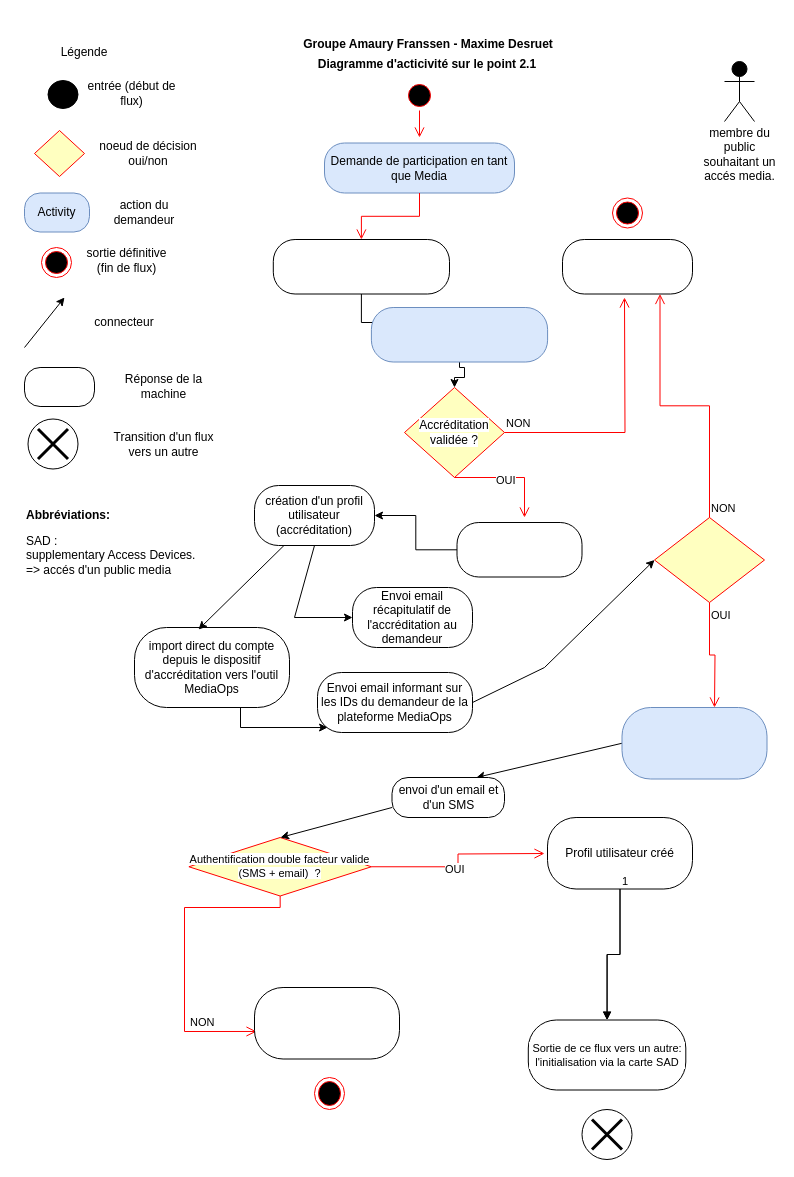
Image size: 794x1177. Some labels were removed from this diagram. The shapes that lost their labels are listed below. From the top down, each one's centre as x and y in pixels, then its label:
[361,266]: Envoi d'un email incitant à s'inscrire au programme d'accréditation
[627,266]: Pas d'accés possible au SAD (public Media)
[459,334]: Le demandeur entre ses informations sur la plateforme d'accréditation
[519,549]: production d'un code barre sur une carte d'identité digitale
[709,559]: L'utilisateur se rend sur la plateforme
[694,742]: Démarche d'authentification : identification par double authentification
[327,1022]: Pas d'accés possible à une entrée en tant que public Media
